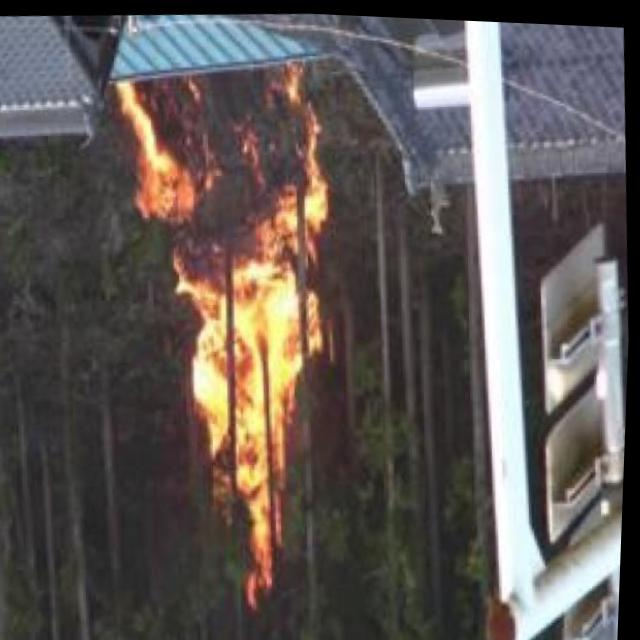Fire: (114, 54, 347, 607)
